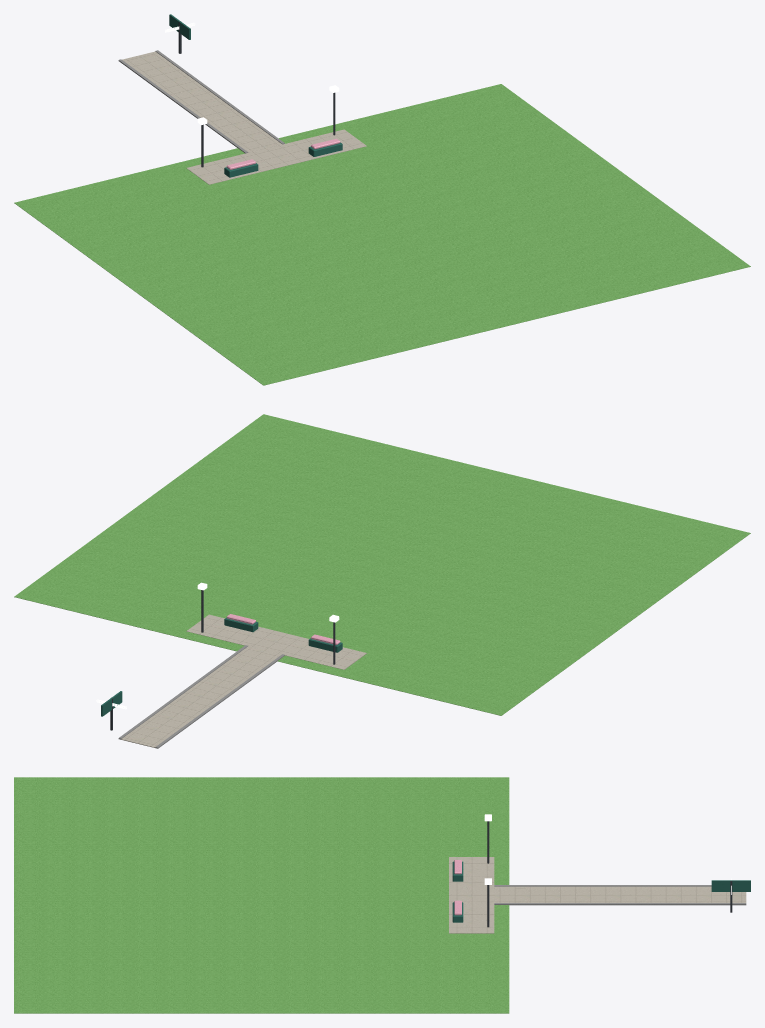
Rendered from threads_site.glb.
3 views of the same model, one above another, from view 1: azimuth 30°, elevation 25°; view 2: azimuth 150°, elevation 25°; view 3: azimuth 270°, elevation 25° (orthographic).
Parts seen in each view (by area): view 1: TS_Lawn, TS_Forecourt, TS_CurbE, TS_Planter0; view 2: TS_Lawn, TS_Forecourt, TS_CurbE, TS_Planter0; view 3: TS_Lawn, TS_Forecourt, TS_CurbE, TS_Planter0.
Boxes of the visible parts, x1=… form: TS_Lawn: x1=14, y1=84, x2=750, y2=385; TS_Forecourt: x1=122, y1=51, x2=366, y2=184; TS_CurbE: x1=118, y1=50, x2=284, y2=153; TS_Planter0: x1=169, y1=14, x2=342, y2=177; TS_Lawn: x1=14, y1=414, x2=750, y2=715; TS_Forecourt: x1=121, y1=614, x2=366, y2=747; TS_CurbE: x1=118, y1=645, x2=284, y2=748; TS_Planter0: x1=101, y1=618, x2=342, y2=716; TS_Lawn: x1=14, y1=777, x2=509, y2=1013; TS_Forecourt: x1=449, y1=857, x2=746, y2=933; TS_CurbE: x1=494, y1=885, x2=746, y2=905; TS_Planter0: x1=452, y1=861, x2=750, y2=922.
Bounding box in the file's own units: 37 × 3.5 × 48.81.
8 materials, 6 textured.
